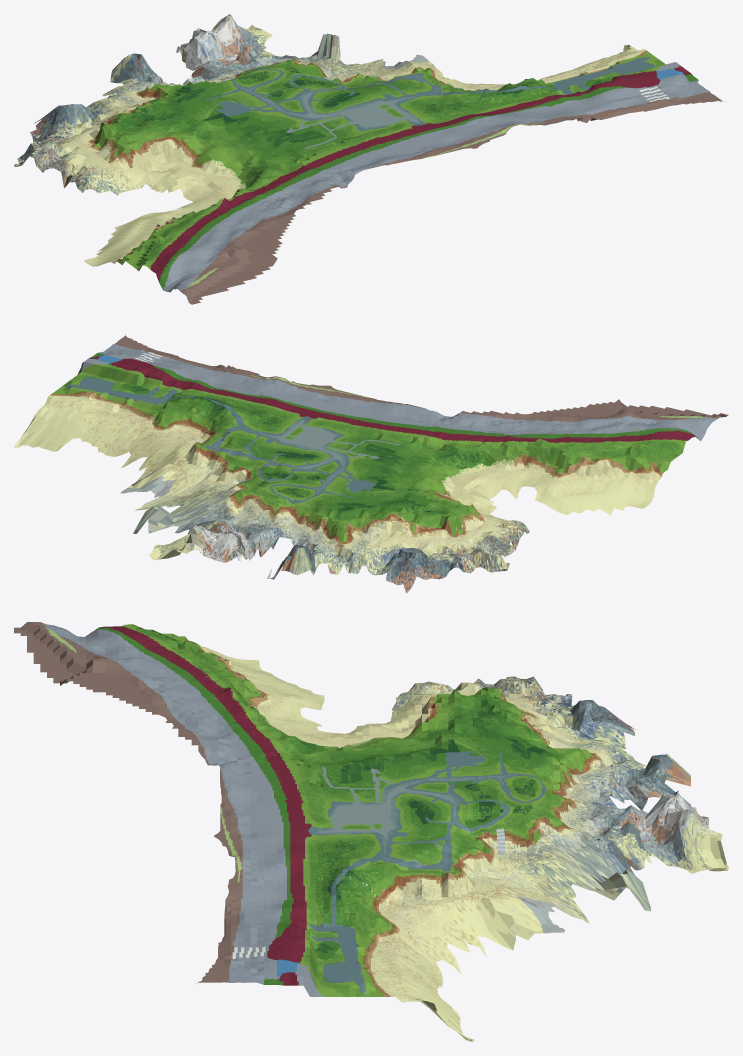
Rendered from HopkinsLandscape.glb.
The picture shows the model from 3 angles, top to bottom: view 1: azimuth 30°, elevation 25°; view 2: azimuth 150°, elevation 25°; view 3: azimuth 270°, elevation 25°; orthographic projection. The views are drawn at different scales.
Visible parts, largest first — view 1: Landscape-col; view 2: Landscape-col; view 3: Landscape-col.
Boxes of the visible parts, x1=… form: Landscape-col: x1=14, y1=14, x2=724, y2=304; Landscape-col: x1=14, y1=334, x2=728, y2=593; Landscape-col: x1=14, y1=622, x2=728, y2=1041.
Size of the model in its own units: 408 by 35.8 by 340.
Materials: 1 (1 with a texture image).
